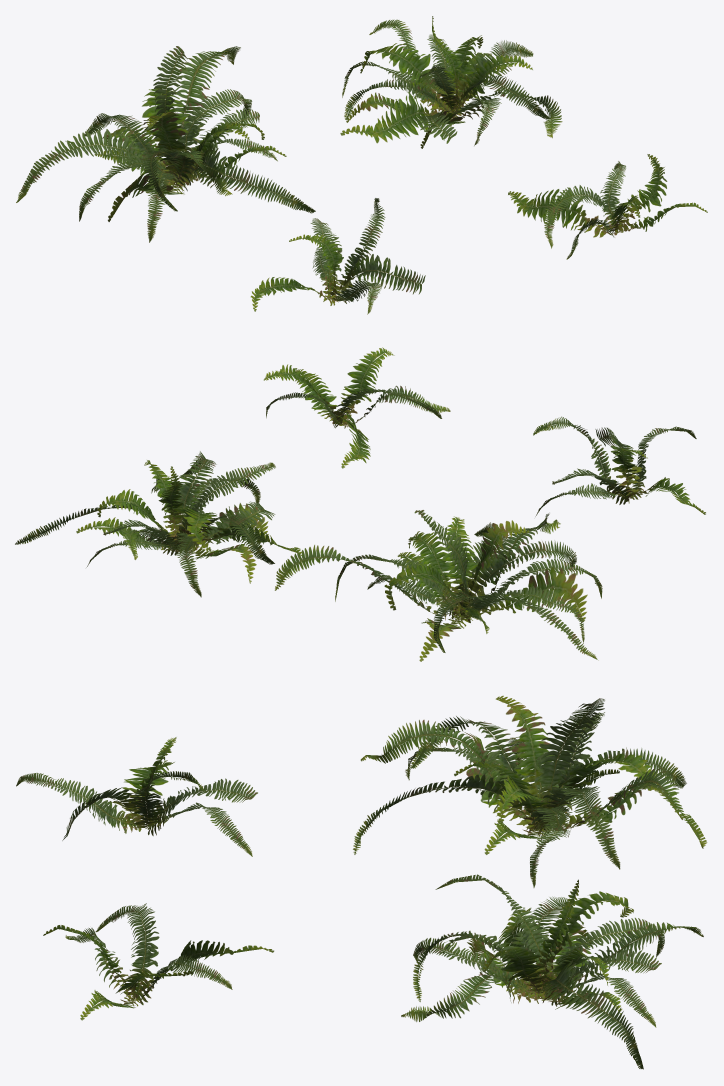
Rendered from fern_02.glb.
3 renders of one model, top to bottom at view 1: azimuth 30°, elevation 25°; view 2: azimuth 150°, elevation 25°; view 3: azimuth 270°, elevation 25°, orthographic. The views are drawn at different scales.
Parts seen in each view (by area): view 1: fern_02_b, fern_02_c, fern_02_a, fern_02_d; view 2: fern_02_b, fern_02_c, fern_02_d, fern_02_a; view 3: fern_02_b, fern_02_c, fern_02_a, fern_02_d.
Part boxes in pixels (x1,y1,x2,y2): fern_02_b: (16, 46, 315, 242); fern_02_c: (340, 16, 562, 148); fern_02_a: (250, 198, 425, 314); fern_02_d: (508, 154, 707, 259); fern_02_b: (274, 510, 602, 661); fern_02_c: (15, 451, 301, 597); fern_02_d: (263, 347, 450, 468); fern_02_a: (533, 416, 705, 516); fern_02_b: (353, 695, 707, 887); fern_02_c: (401, 874, 703, 1069); fern_02_a: (16, 737, 257, 856); fern_02_d: (43, 903, 274, 1020).
Bounding box in the file's own units: 1.97 × 0.4277 × 1.72.
Materials: 1 (1 with a texture image).
